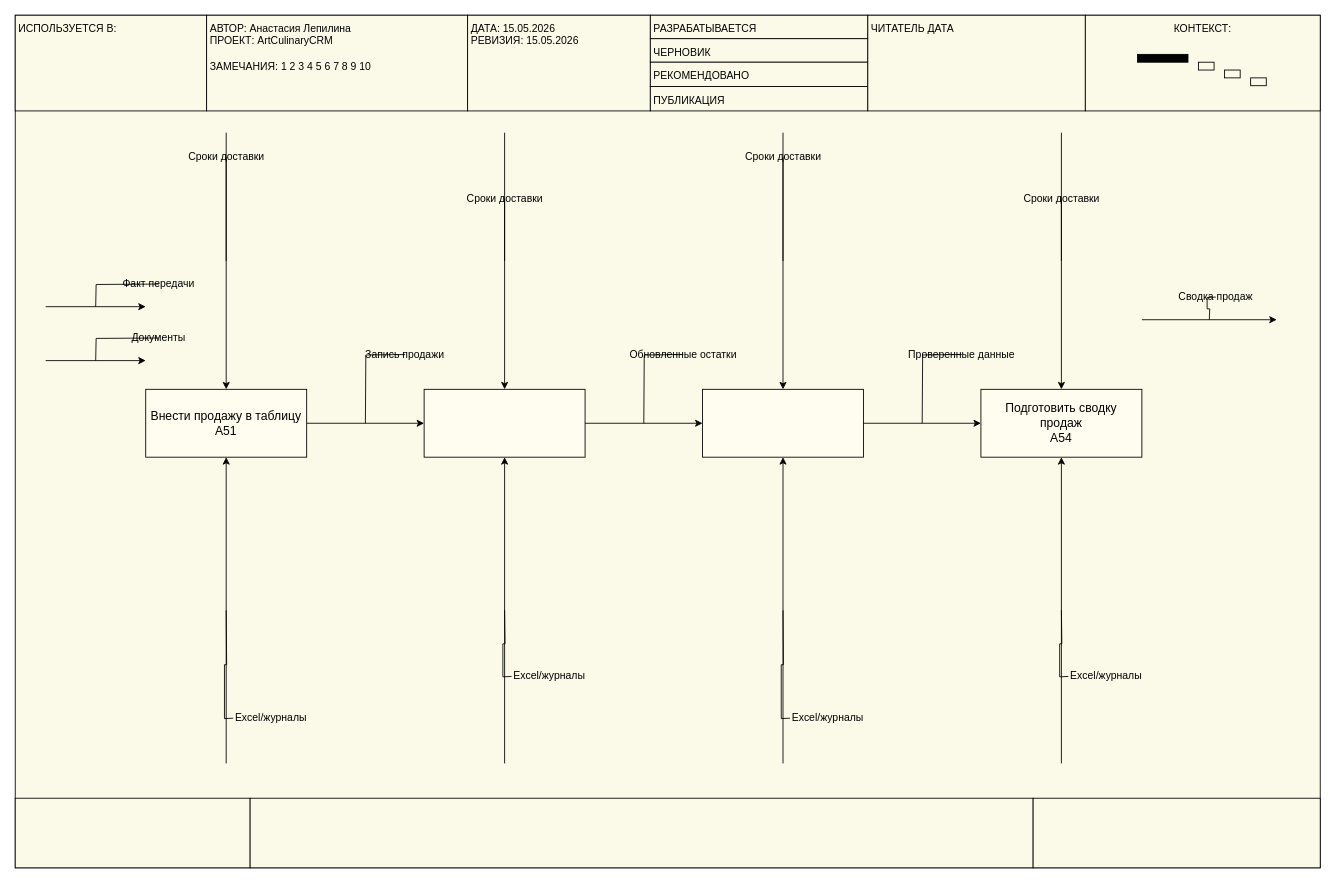
Some shapes in this 1335 by 883 pixel diagram are drawn without their labels. The centre of each missing label's shape, as x and y in pixels:
Ветка: A5: the point at 132,832
Название: Закрыть продажу вручную: the point at 641,832
Номер: 7: the point at 1176,832
Обновить остатки вручную A52: the point at 504,422
Сверить документы A53: the point at 782,422
